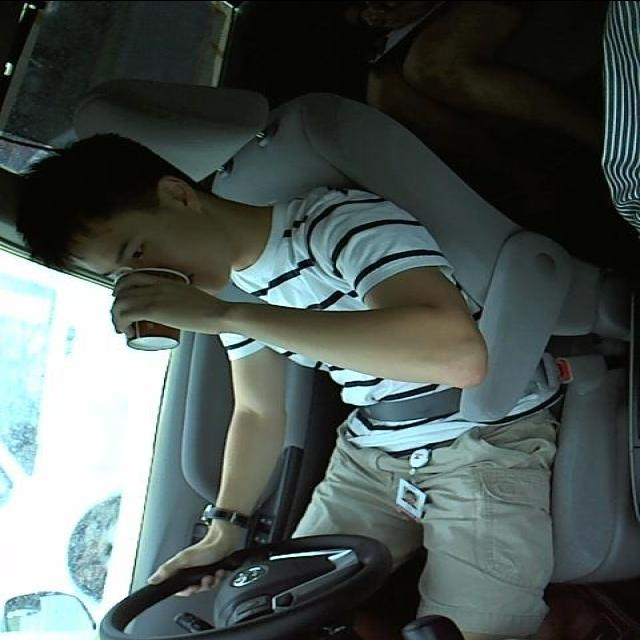drinking: (110, 258, 190, 350)
